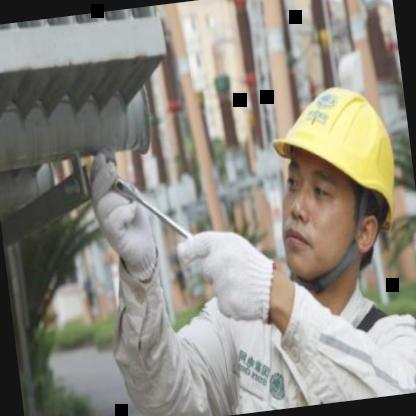helmet: (243, 60, 416, 300)
